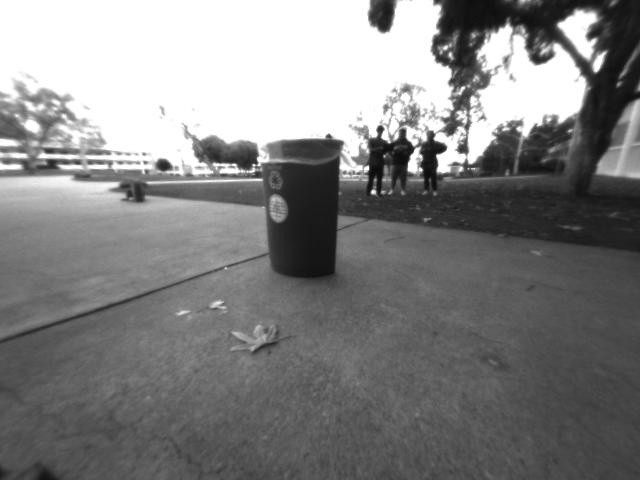trashcan_open: (260, 140, 343, 280)
